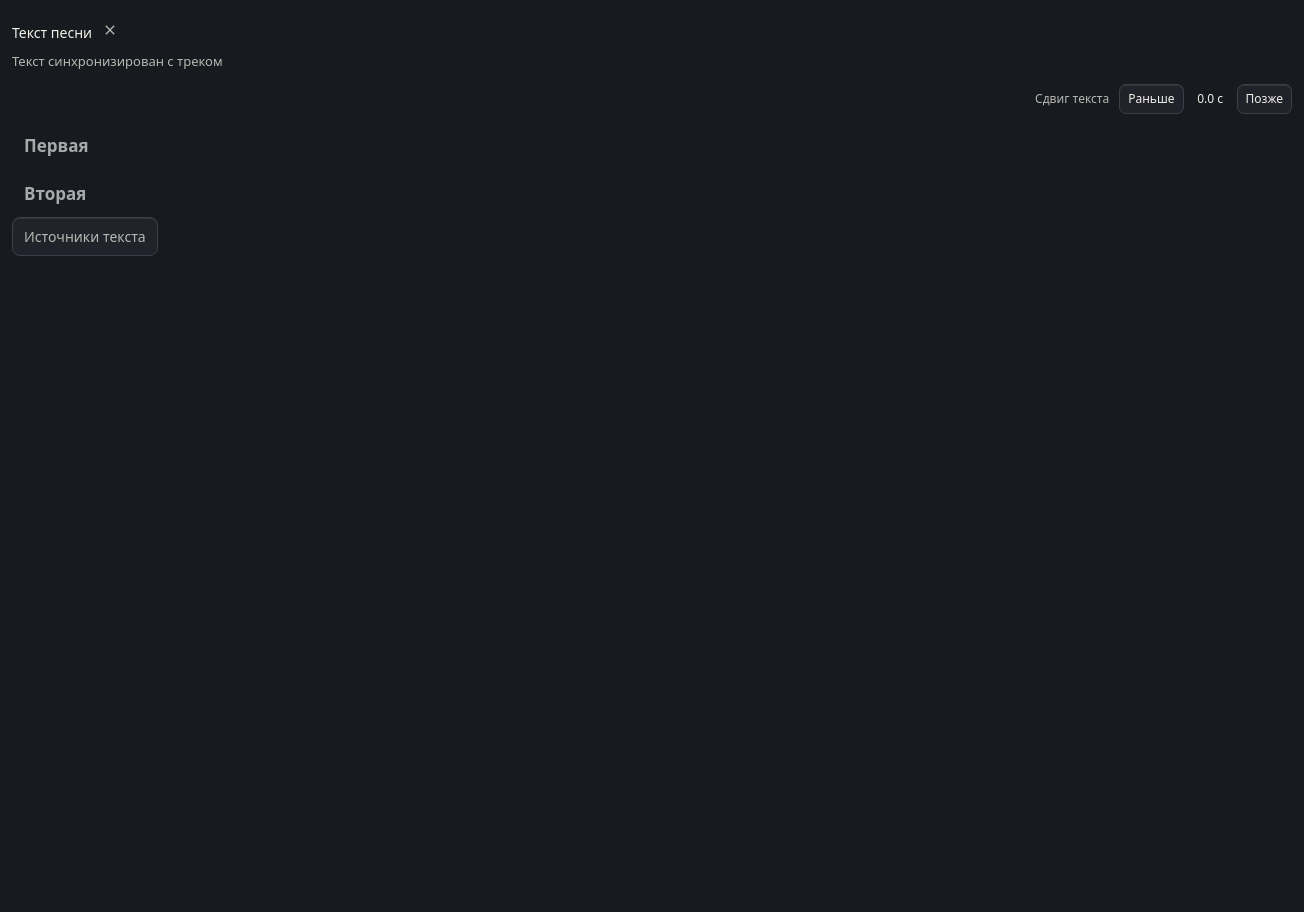
Test: shows the displayed text and the result from each lyrics source
Step 1. Click the button "Источники текста" → (85, 236), box [12,217,158,256]
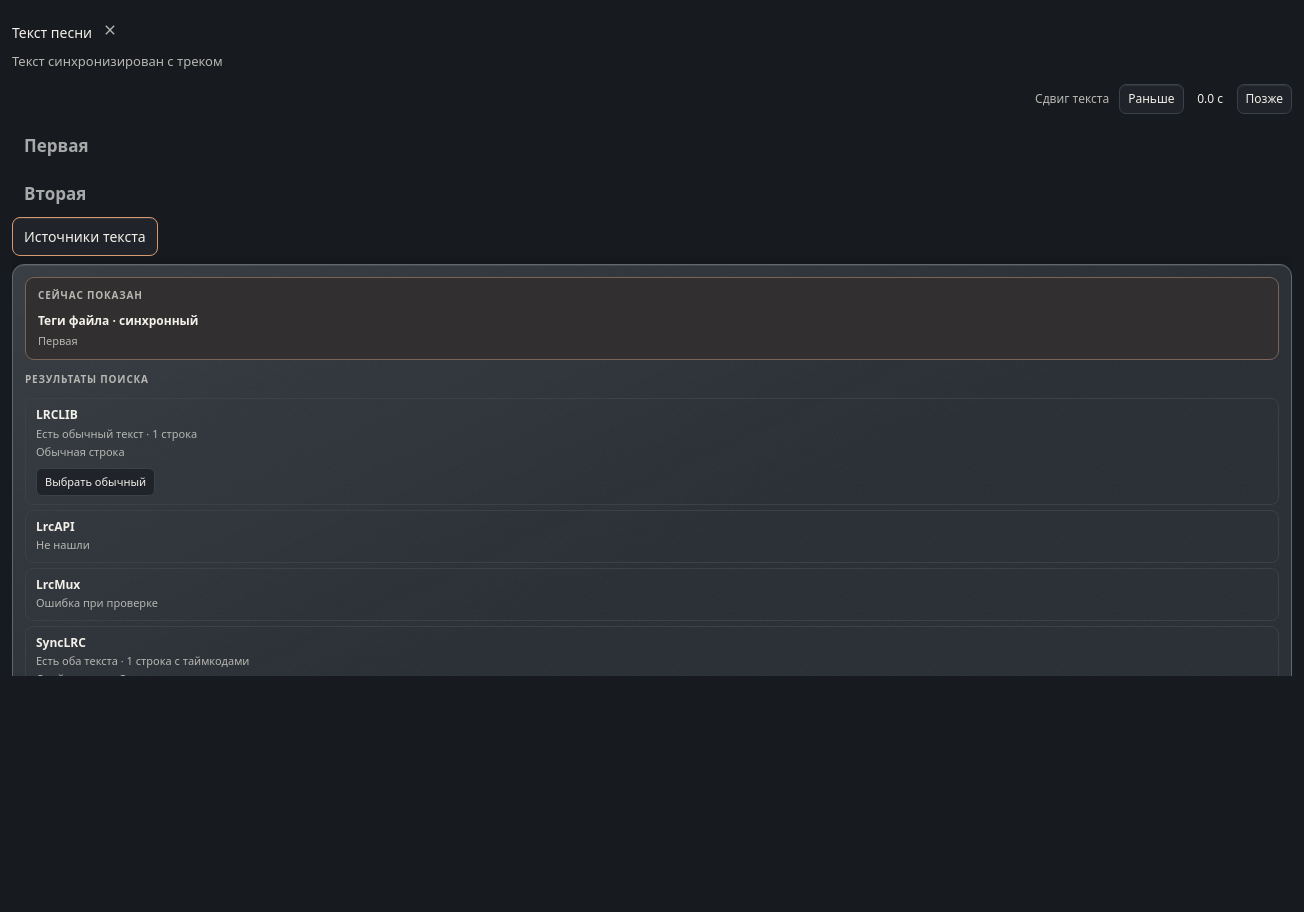
Check: the button "Источники текста" is expanded, box [12,217,158,256]
Check: the element with class "rp-lyrics-current" shows "Теги файла · синхронный", box [38,312,198,329]
